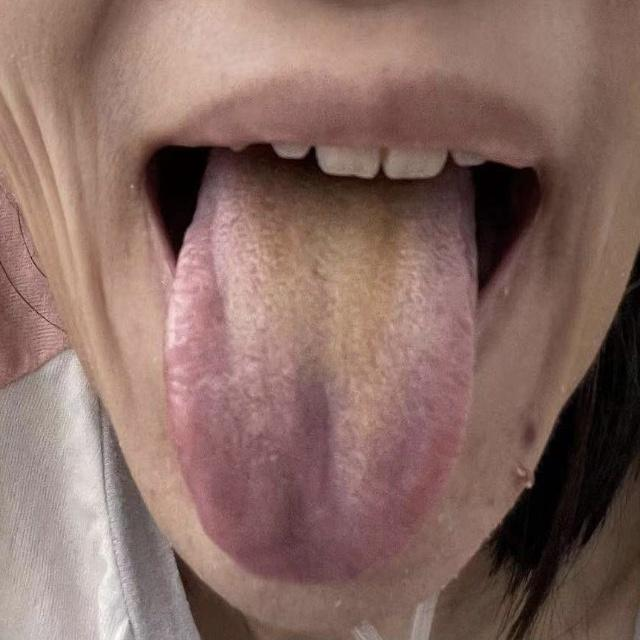huangtaishe: (161, 181, 476, 585)
